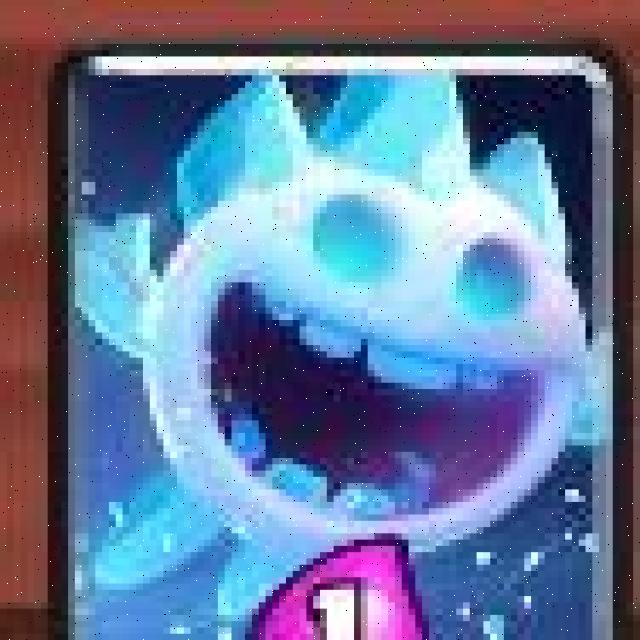Ice_Spirit: (49, 42, 620, 640)
